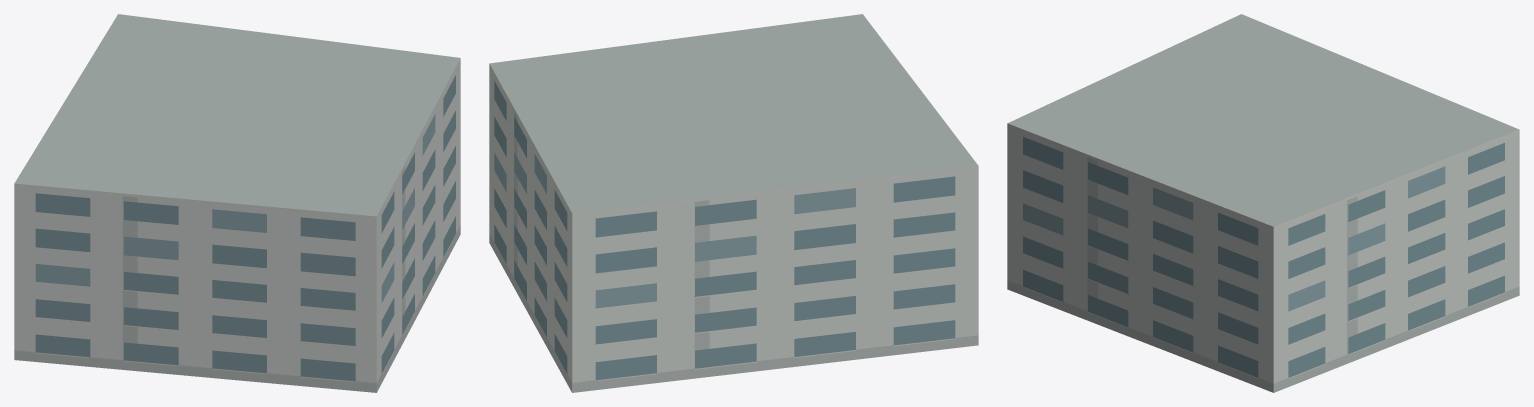
File: residential-67cf47b8-3aad-4a6f-87fb-b0f2b7698808.glb
3 renders of one model, left to right at view 1: azimuth 30°, elevation 25°; view 2: azimuth 150°, elevation 25°; view 3: azimuth 270°, elevation 25°, orthographic. The views are drawn at different scales.
Parts seen in each view (by area): view 1: residential-67cf47b8-3aad-4a6f-87fb-b0f2b7698808.tmp; view 2: residential-67cf47b8-3aad-4a6f-87fb-b0f2b7698808.tmp; view 3: residential-67cf47b8-3aad-4a6f-87fb-b0f2b7698808.tmp.
Boxes of the visible parts, x1,y1,x2,y2 form: residential-67cf47b8-3aad-4a6f-87fb-b0f2b7698808.tmp: (14,14,460,392); residential-67cf47b8-3aad-4a6f-87fb-b0f2b7698808.tmp: (489,14,978,392); residential-67cf47b8-3aad-4a6f-87fb-b0f2b7698808.tmp: (1007,14,1519,392).
Size of the model in its own units: 41.91 by 15.25 by 42.61.
